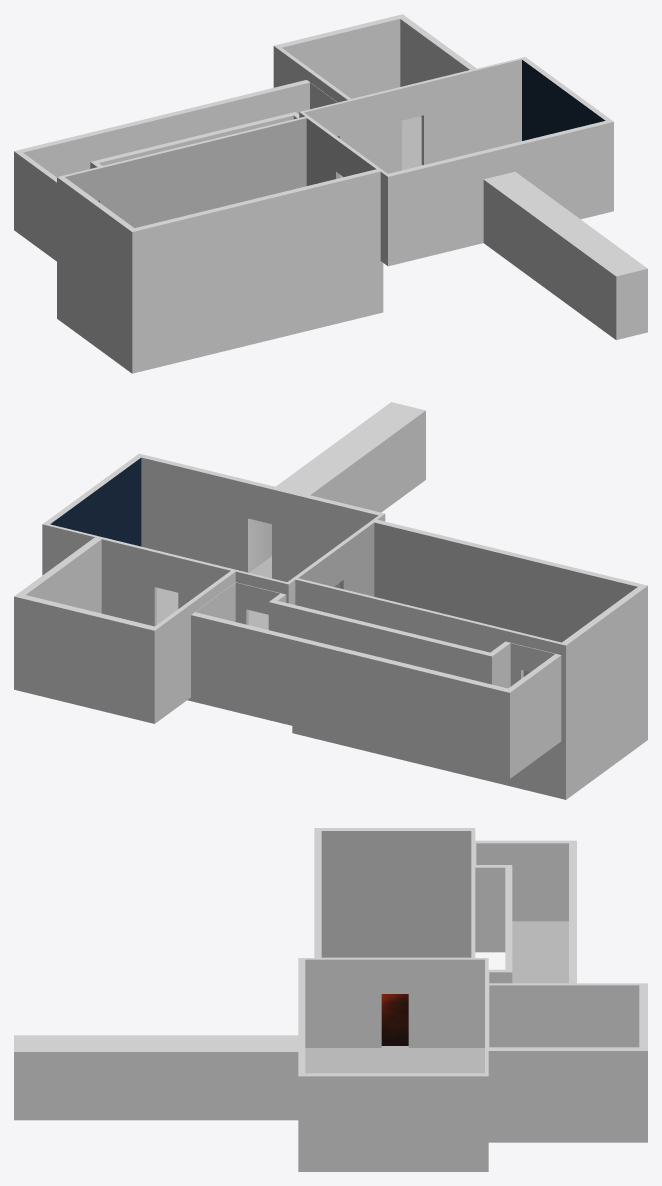
Rendered from rooms.fbx.
3 views of the same model, one above another, from view 1: azimuth 30°, elevation 25°; view 2: azimuth 150°, elevation 25°; view 3: azimuth 270°, elevation 25° (orthographic). The views are drawn at different scales.
Parts seen in each view (by area): view 1: maze room, main room, hallway room, starting room; view 2: maze room, hallway room, main room, starting room; view 3: main room, starting room, maze room, hallway room.
Part boxes in pixels (box(x1,y1,x2,y2)): maze room: box(57, 116, 383, 373); main room: box(299, 57, 647, 339); hallway room: box(14, 80, 339, 261); starting room: box(273, 14, 476, 168); maze room: box(292, 519, 647, 799); hallway room: box(187, 582, 561, 778); main room: box(42, 402, 425, 629); starting room: box(14, 536, 236, 723); main room: box(14, 958, 488, 1171); starting room: box(486, 983, 647, 1142); maze room: box(314, 828, 475, 1047); hallway room: box(475, 840, 576, 983).
Size of the model in its own units: 1961 by 559 by 2117.
